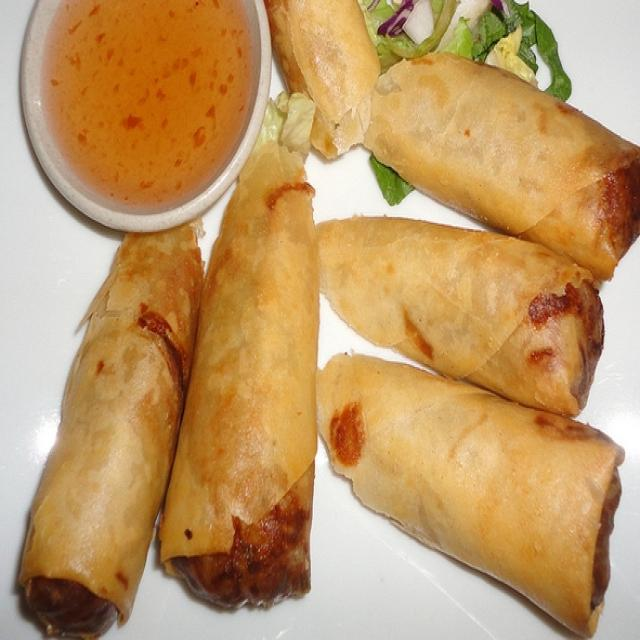炸货点心: (24, 33, 627, 613)
